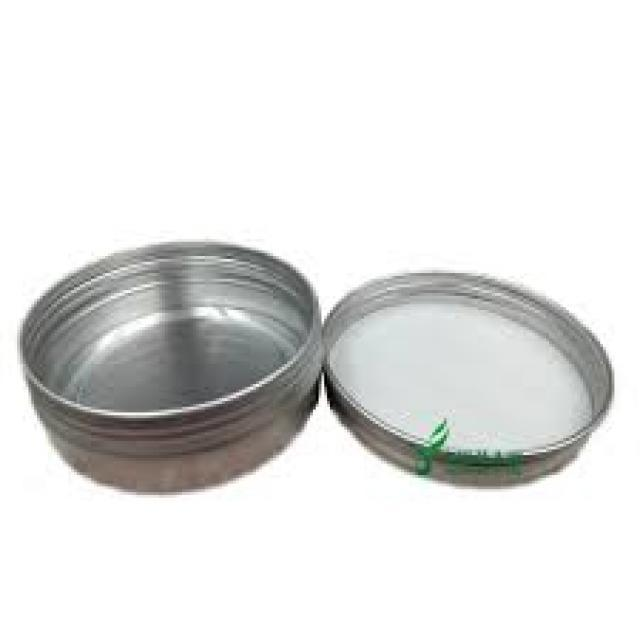recyclable: (15, 238, 325, 496), (322, 271, 614, 488)
